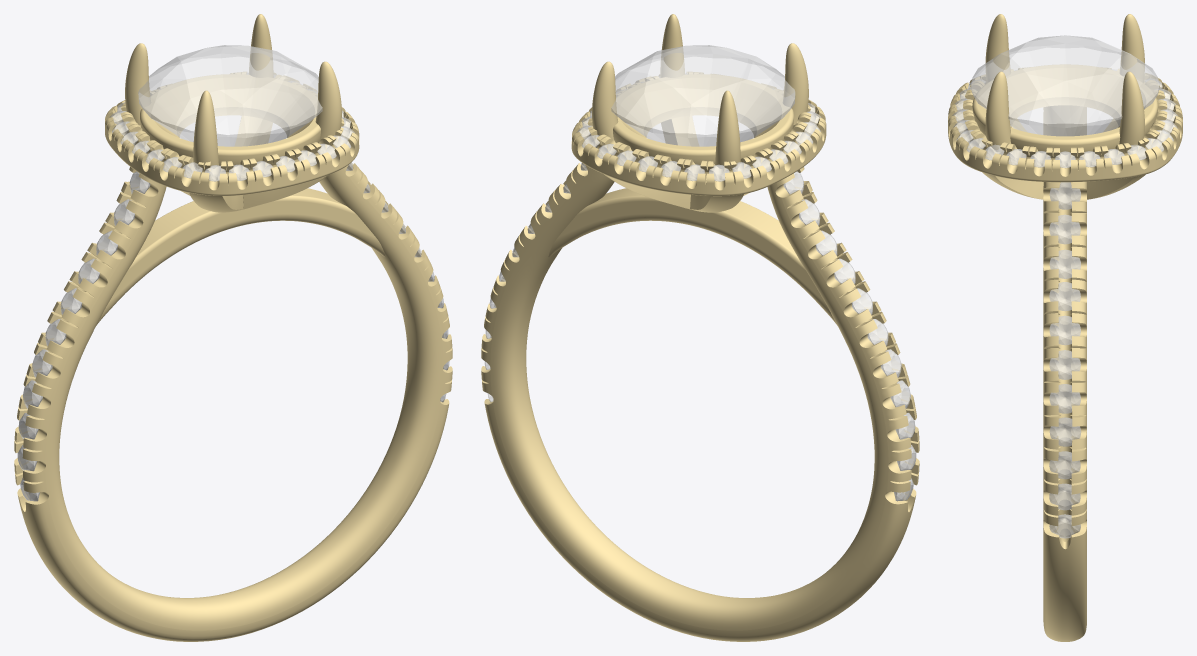
3 views of the same model, side by side, from view 1: azimuth 30°, elevation 25°; view 2: azimuth 150°, elevation 25°; view 3: azimuth 270°, elevation 25° (orthographic).
Parts seen in each view (by area): view 1: NNObj_21, NNObj_23, NNObj_22, NNObj_16, NNObj_11, NNObj_15, NNObj_14, NNObj_13, NNObj_12, NNObj_17, NNObj_18, NNObj_20; view 2: NNObj_21, NNObj_23, NNObj_22, NNObj_16, NNObj_11, NNObj_12, NNObj_13, NNObj_14, NNObj_15, NNObj_18, NNObj_17, NNObj_19; view 3: NNObj_21, NNObj_23, NNObj_22, NNObj_16, NNObj_15, NNObj_12, NNObj_14, NNObj_13, NNObj_18, NNObj_17, NNObj_29, NNObj_28 (+9 smaller).
Part boxes in pixels (x1=…): NNObj_21: x1=14, y1=163, x2=452, y2=641; NNObj_23: x1=138, y1=45, x2=322, y2=146; NNObj_22: x1=105, y1=72, x2=359, y2=195; NNObj_16: x1=140, y1=74, x2=320, y2=166; NNObj_11: x1=96, y1=188, x2=385, y2=325; NNObj_15: x1=315, y1=61, x2=341, y2=142; NNObj_14: x1=193, y1=90, x2=218, y2=170; NNObj_13: x1=125, y1=43, x2=150, y2=125; NNObj_12: x1=249, y1=14, x2=273, y2=77; NNObj_17: x1=235, y1=116, x2=272, y2=146; NNObj_18: x1=243, y1=174, x2=329, y2=209; NNObj_20: x1=189, y1=193, x2=243, y2=212; NNObj_21: x1=481, y1=163, x2=919, y2=641; NNObj_23: x1=611, y1=45, x2=795, y2=146; NNObj_22: x1=571, y1=72, x2=826, y2=196; NNObj_16: x1=613, y1=74, x2=793, y2=165; NNObj_11: x1=548, y1=188, x2=837, y2=325; NNObj_12: x1=592, y1=61, x2=618, y2=139; NNObj_13: x1=715, y1=90, x2=740, y2=168; NNObj_14: x1=783, y1=43, x2=808, y2=125; NNObj_15: x1=660, y1=14, x2=684, y2=77; NNObj_18: x1=661, y1=116, x2=698, y2=146; NNObj_17: x1=604, y1=174, x2=690, y2=209; NNObj_19: x1=690, y1=194, x2=743, y2=212; NNObj_21: x1=1043, y1=105, x2=1086, y2=641; NNObj_23: x1=971, y1=35, x2=1159, y2=136; NNObj_22: x1=948, y1=67, x2=1182, y2=182; NNObj_16: x1=972, y1=64, x2=1157, y2=154; NNObj_15: x1=985, y1=71, x2=1010, y2=151; NNObj_12: x1=1119, y1=71, x2=1144, y2=150; NNObj_14: x1=985, y1=14, x2=1010, y2=82; NNObj_13: x1=1120, y1=14, x2=1144, y2=82; NNObj_18: x1=982, y1=172, x2=1043, y2=199; NNObj_17: x1=1087, y1=174, x2=1145, y2=199; NNObj_29: x1=1049, y1=350, x2=1080, y2=379; NNObj_28: x1=1049, y1=384, x2=1080, y2=413.
Size of the model in its own units: 0.0208 by 0.0269 by 0.00995.
